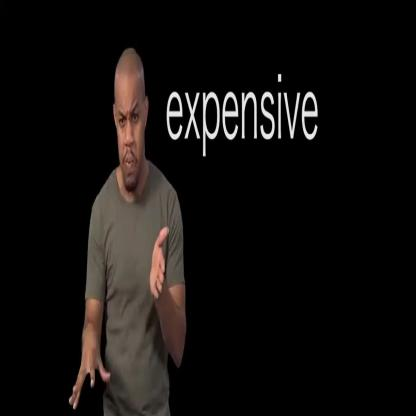Expensive: (68, 222, 167, 416)
